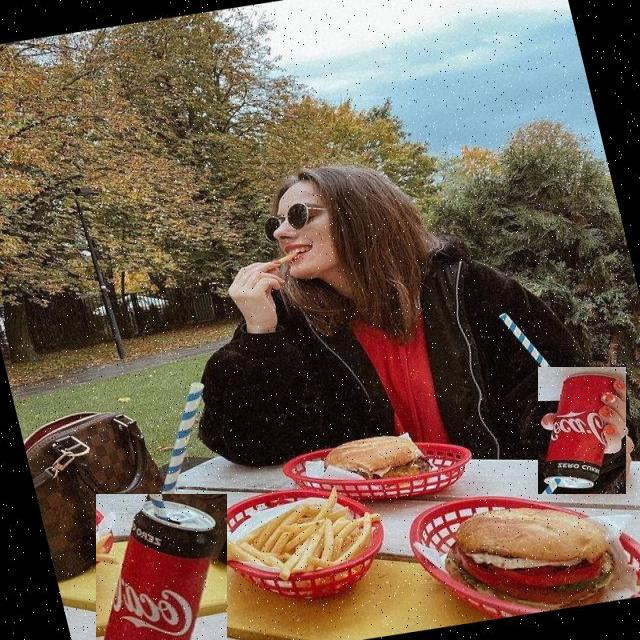coca-cola: (96, 494, 227, 640), (538, 367, 626, 494)
